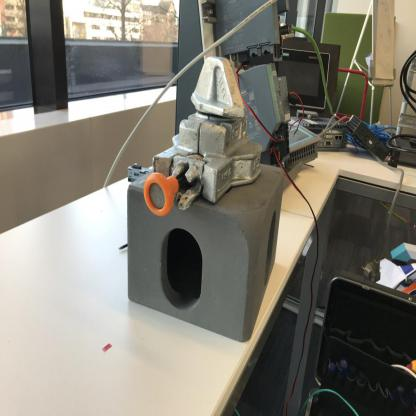CornerCasting: (122, 164, 287, 344)
Twistlock: (141, 52, 264, 221)
